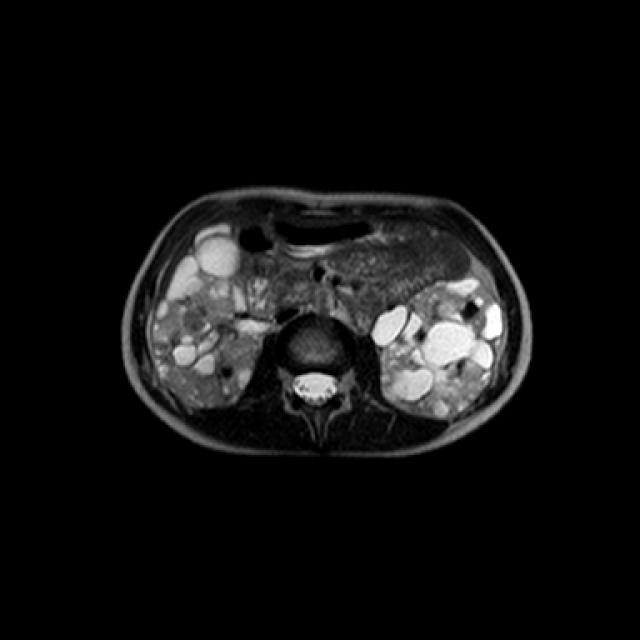sag: (153, 233, 271, 410)
sol: (374, 277, 502, 416)
